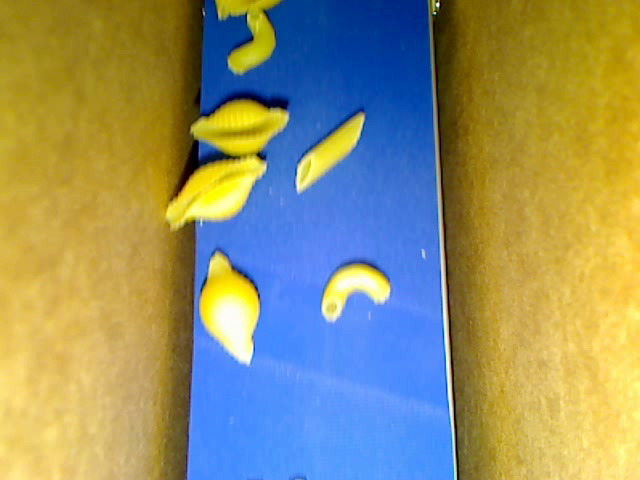elbow: (321, 262, 391, 322), (227, 7, 276, 73)
penne: (295, 112, 364, 192)
shell: (165, 153, 266, 230), (198, 248, 259, 365), (190, 97, 289, 156), (214, 1, 280, 19)
